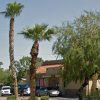Palm tree: (2, 2, 50, 92)
